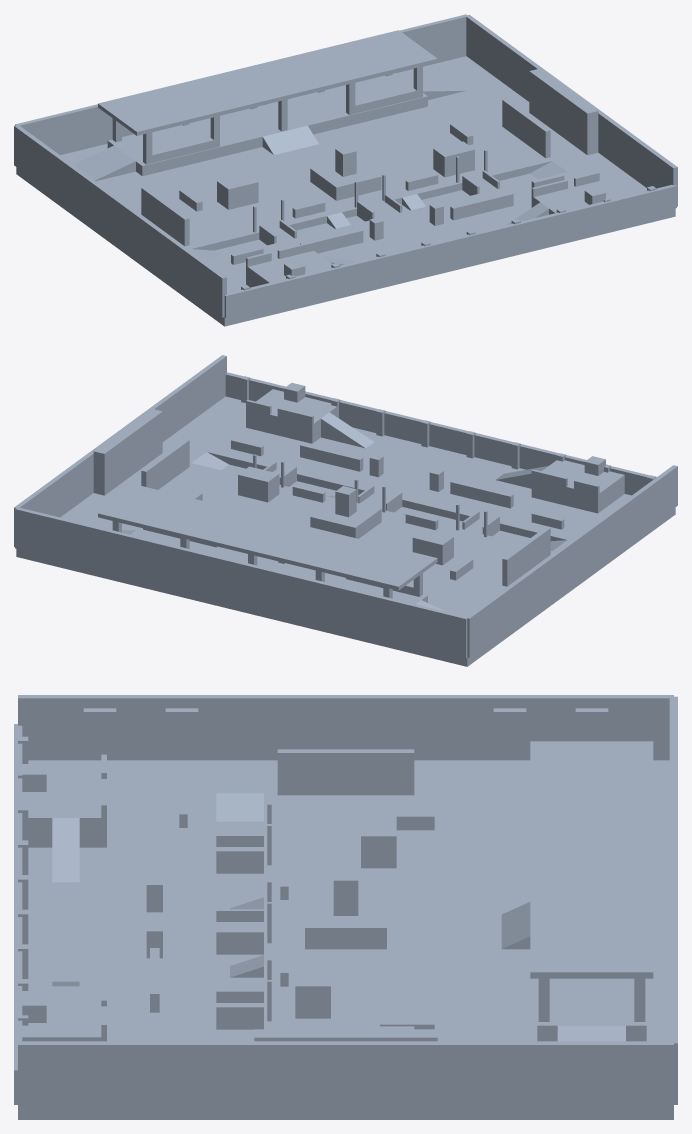
The model's file is frostcourt_collision.glb.
3 views of the same model, one above another, from view 1: azimuth 30°, elevation 25°; view 2: azimuth 150°, elevation 25°; view 3: azimuth 270°, elevation 25° (orthographic). The views are drawn at different scales.
Visible parts, largest first — view 1: COL_court_floor, COL_arcade_roof, COL_court_floor_south, COL_boundary_z_24, COL_boundary_x_-30, COL_arcade_terrace, COL_boundary_x_30, COL_boundary_z_-24, COL_palace_portico, COL_fountain_plinth, COL_spawn_screen_east, COL_spawn_screen_west (+14 smaller); view 2: COL_boundary_z_-24, COL_court_floor_south, COL_court_floor, COL_arcade_roof, COL_boundary_x_-30, COL_boundary_z_24, COL_boundary_x_30, COL_palace_portico, COL_garden_terrace_-1, COL_garden_terrace_1, COL_arcade_terrace, COL_fountain_plinth (+10 smaller); view 3: COL_court_floor, COL_boundary_x_30, COL_court_floor_south, COL_boundary_x_-30, COL_arcade_roof, COL_spawn_screen_west, COL_garden_terrace_-1, COL_arcade_terrace, COL_fountain_plinth, COL_canal_ice, COL_garden_terrace_1, COL_boundary_z_-24 (+24 smaller).
Part boxes in pixels (<box>): COL_court_floor: <box>16,56,583,268</box>; COL_arcade_roof: <box>98,30,437,135</box>; COL_court_floor_south: <box>161,161,675,326</box>; COL_boundary_z_24: <box>224,185,676,317</box>; COL_boundary_x_-30: <box>14,125,226,317</box>; COL_arcade_terrace: <box>107,73,427,176</box>; COL_boundary_x_30: <box>465,15,677,206</box>; COL_boundary_z_-24: <box>15,14,468,155</box>; COL_palace_portico: <box>529,68,598,155</box>; COL_fountain_plinth: <box>310,158,381,200</box>; COL_spawn_screen_east: <box>502,98,550,158</box>; COL_spawn_screen_west: <box>141,187,189,246</box>; COL_boundary_z_-24: <box>15,507,467,658</box>; COL_court_floor_south: <box>164,396,675,559</box>; COL_court_floor: <box>16,455,597,666</box>; COL_arcade_roof: <box>98,485,437,590</box>; COL_boundary_x_-30: <box>465,465,677,657</box>; COL_boundary_z_24: <box>225,372,656,495</box>; COL_boundary_x_30: <box>14,355,226,546</box>; COL_palace_portico: <box>93,409,162,495</box>; COL_garden_terrace_-1: <box>531,460,624,513</box>; COL_garden_terrace_1: <box>246,389,337,443</box>; COL_arcade_terrace: <box>130,527,427,604</box>; COL_fountain_plinth: <box>310,499,381,538</box>; COL_court_floor: <box>264,760,673,1119</box>; COL_boundary_x_30: <box>18,1041,673,1106</box>; COL_court_floor_south: <box>18,760,216,1119</box>; COL_boundary_x_-30: <box>18,695,673,760</box>; COL_arcade_roof: <box>530,741,653,978</box>; COL_spawn_screen_west: <box>277,749,414,795</box>; COL_garden_terrace_-1: <box>22,767,106,847</box>; COL_arcade_terrace: <box>537,978,646,1041</box>; COL_fountain_plinth: <box>305,893,386,949</box>; COL_canal_ice: <box>216,821,263,1041</box>; COL_garden_terrace_1: <box>22,986,106,1041</box>; COL_boundary_z_-24: <box>669,696,677,1104</box>.
Bounding box in the file's own units: 60.6 × 7.55 × 48.6.
